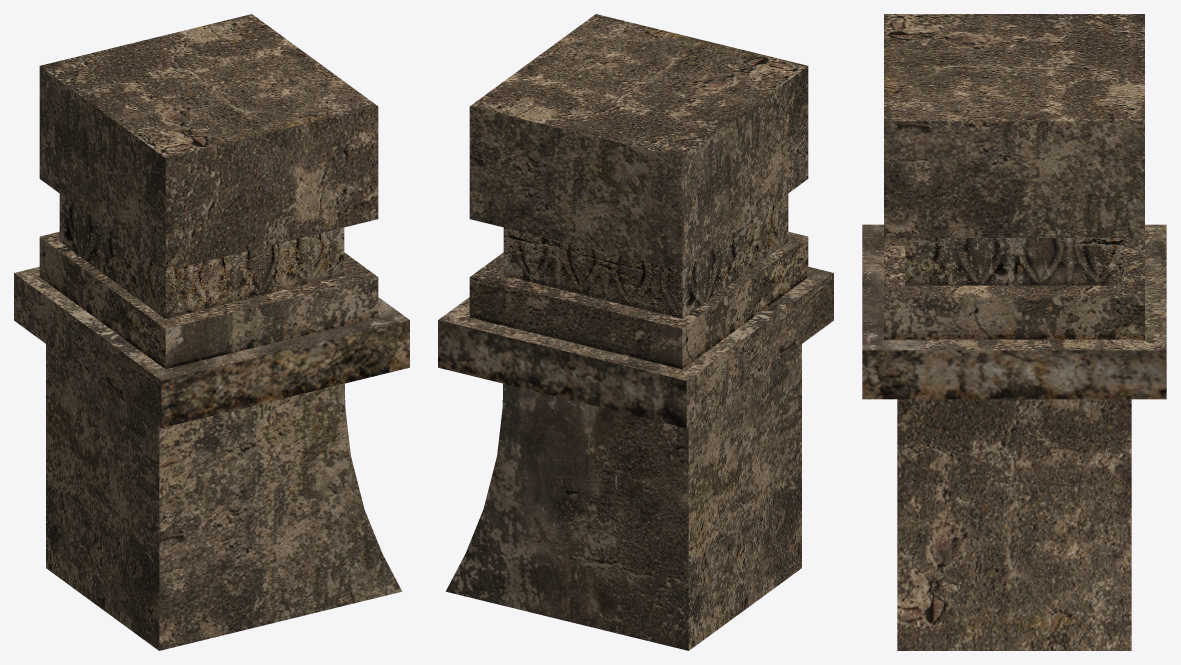
File: materials_5_decoration_11.fbx
3 renders of one model, left to right at view 1: azimuth 30°, elevation 25°; view 2: azimuth 150°, elevation 25°; view 3: azimuth 270°, elevation 25°, orthographic. The views are drawn at different scales.
Parts seen in each view (by area): view 1: materials_5_decoration_11; view 2: materials_5_decoration_11; view 3: materials_5_decoration_11.
Boxes of the visible parts, x1,y1,x2,y2 form: materials_5_decoration_11: (14,14,409,650); materials_5_decoration_11: (438,14,833,650); materials_5_decoration_11: (862,14,1166,650).
Size of the model in its own units: 26.8 by 49.36 by 26.49.
